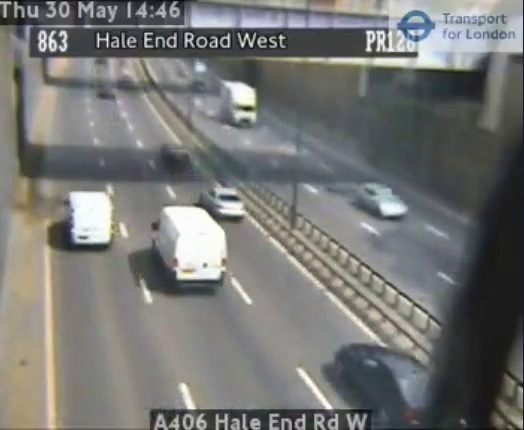car: (337, 346, 430, 415), (200, 188, 247, 217)
van: (152, 206, 227, 288), (67, 191, 114, 246)
